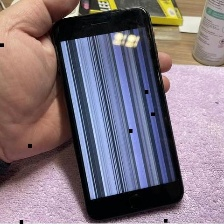phone: (44, 1, 186, 223)
